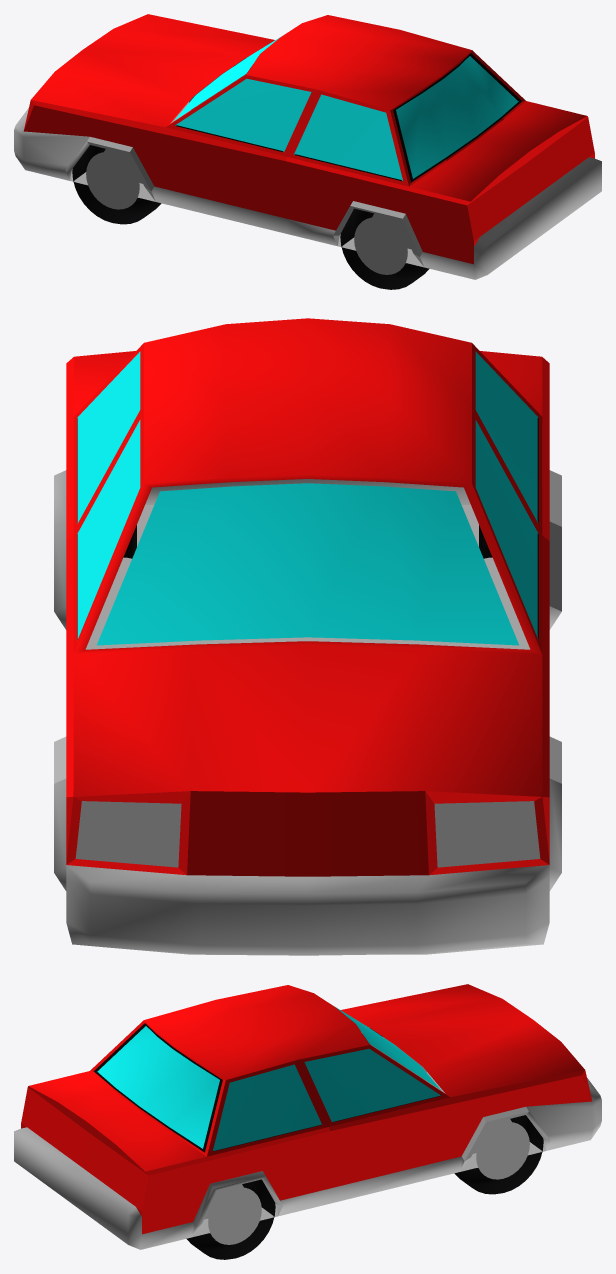
File: LeftTurn_Car.obj
The picture shows the model from 3 angles, top to bottom: view 1: azimuth 30°, elevation 25°; view 2: azimuth 150°, elevation 25°; view 3: azimuth 270°, elevation 25°; orthographic projection. The views are drawn at different scales.
Parts seen in each view (by area): view 1: Car_Cube; view 2: Car_Cube; view 3: Car_Cube.
Boxes of the visible parts, x1,y1,x2,y2 form: Car_Cube: (14, 14, 601, 289); Car_Cube: (54, 318, 561, 955); Car_Cube: (14, 984, 601, 1259).
Bounding box in the file's own units: 3.88 × 1.59 × 4.86.
